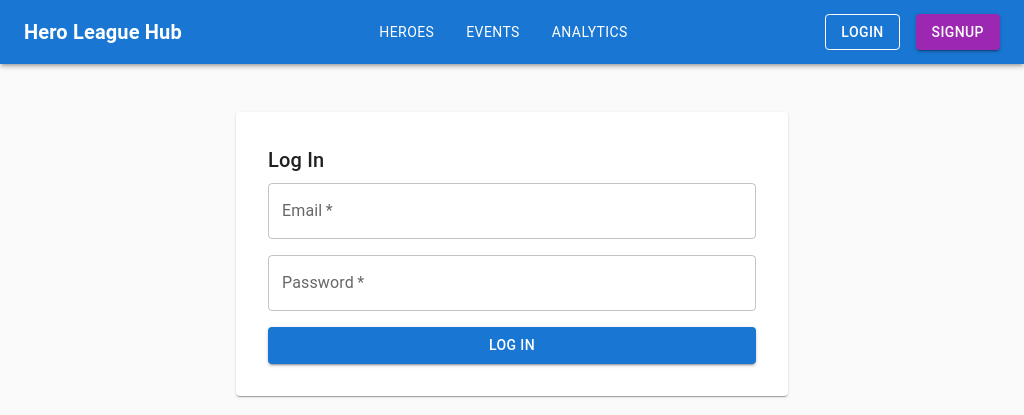
Test: successful login redirects to dashboard
The width and height of the screenshot is (1024, 415).
Step 1. Type "test@example.com" into the field labelled "Email *" → {"x": 512, "y": 211}, box [268,183,756,239]
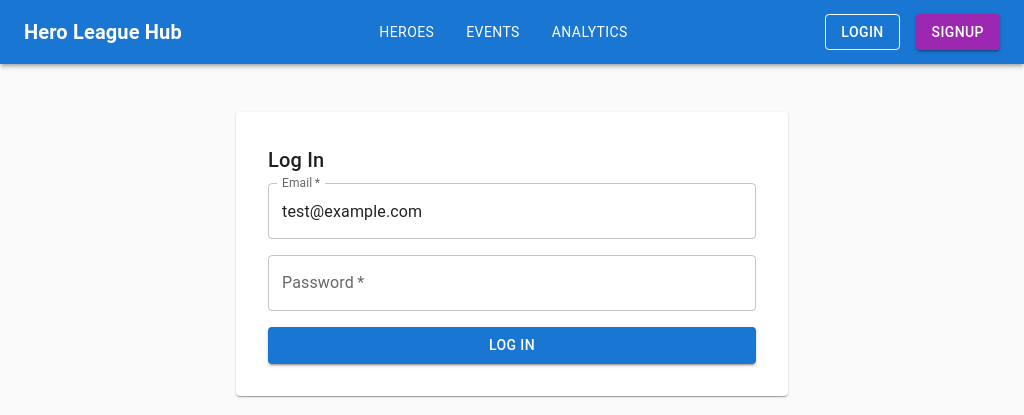
Step 2. Type "pw123" into the password field labelled "Password *" → {"x": 512, "y": 283}, box [268,255,756,311]
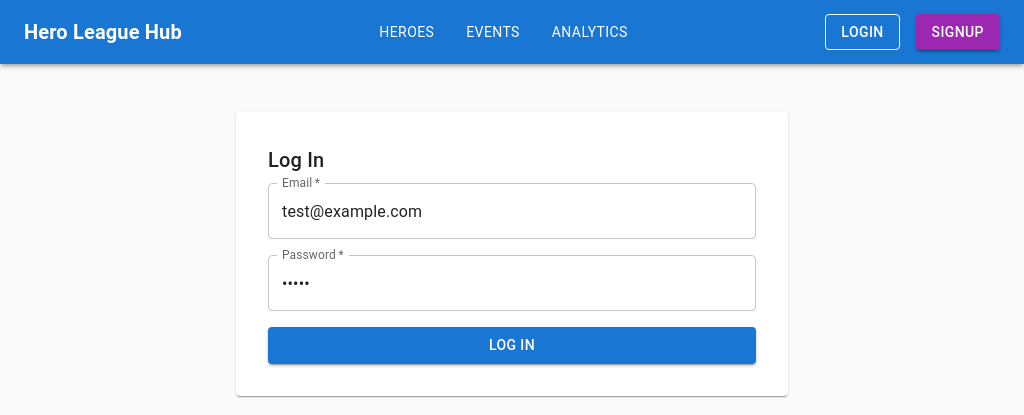
Step 3. Click the button "Log In" → {"x": 512, "y": 345}, box [268,327,756,364]
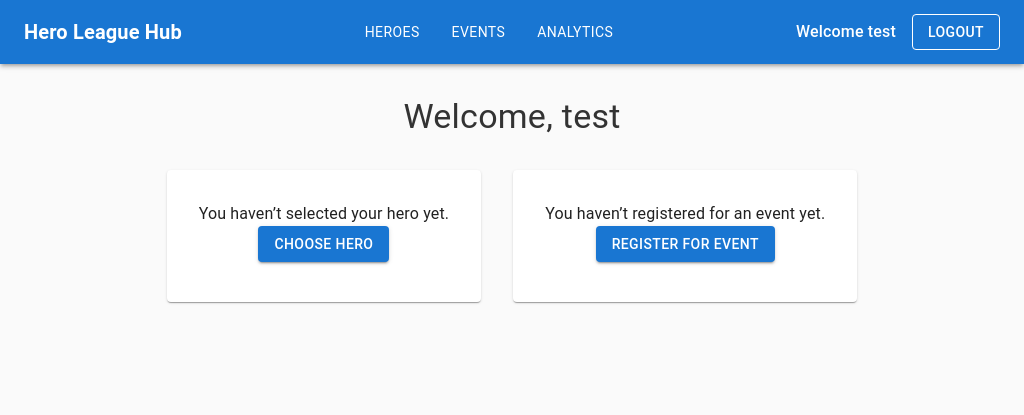
Now the heading "Welcome, test" is shown, box [403,96,621,136]
